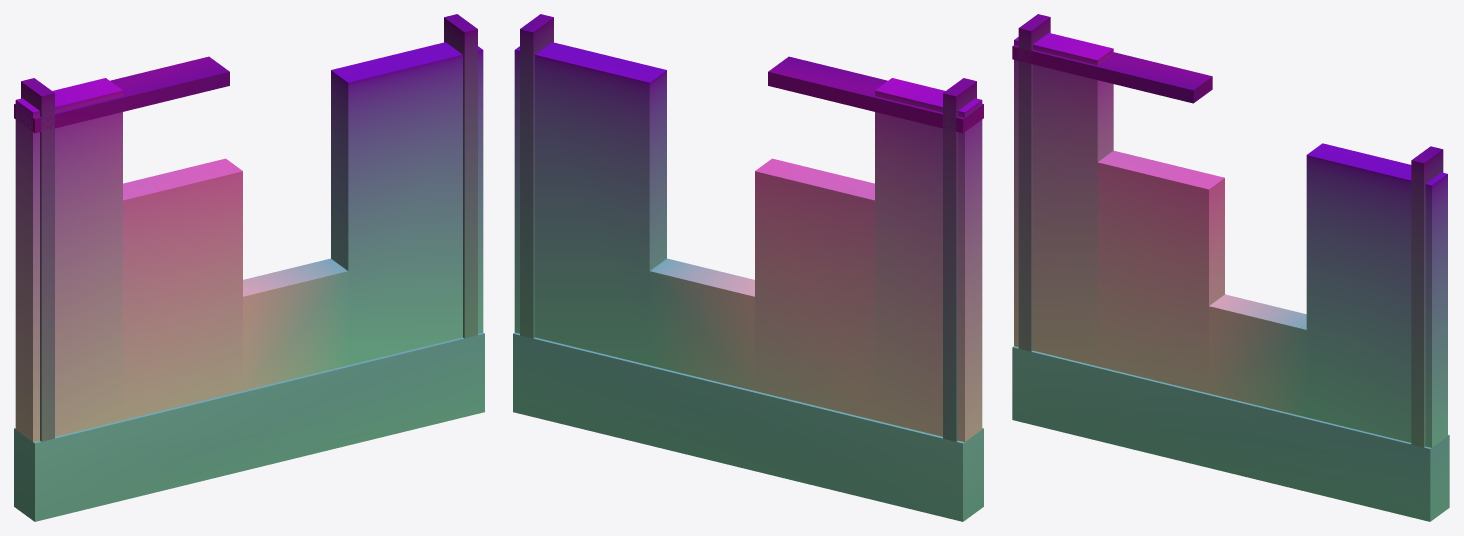
Rendered from burg_wall_3m_ruin_b.glb.
3 views of the same model, side by side, from view 1: azimuth 30°, elevation 25°; view 2: azimuth 150°, elevation 25°; view 3: azimuth 330°, elevation 25° (orthographic). The views are drawn at different scales.
Visible parts, largest first — view 1: plaster, base_course, timbers; view 2: plaster, base_course, timbers; view 3: plaster, base_course, timbers.
Part boxes in pixels (x1=…): plaster: x1=15, y1=42, x2=483, y2=441; base_course: x1=14, y1=332, x2=484, y2=521; timbers: x1=14, y1=14, x2=477, y2=441; plaster: x1=514, y1=42, x2=982, y2=441; base_course: x1=513, y1=332, x2=983, y2=521; timbers: x1=520, y1=14, x2=983, y2=441; plaster: x1=1014, y1=33, x2=1447, y2=447; base_course: x1=1012, y1=346, x2=1449, y2=521; timbers: x1=1012, y1=14, x2=1443, y2=447.
Bounding box in the file's own units: 3 × 2.7 × 0.24.
